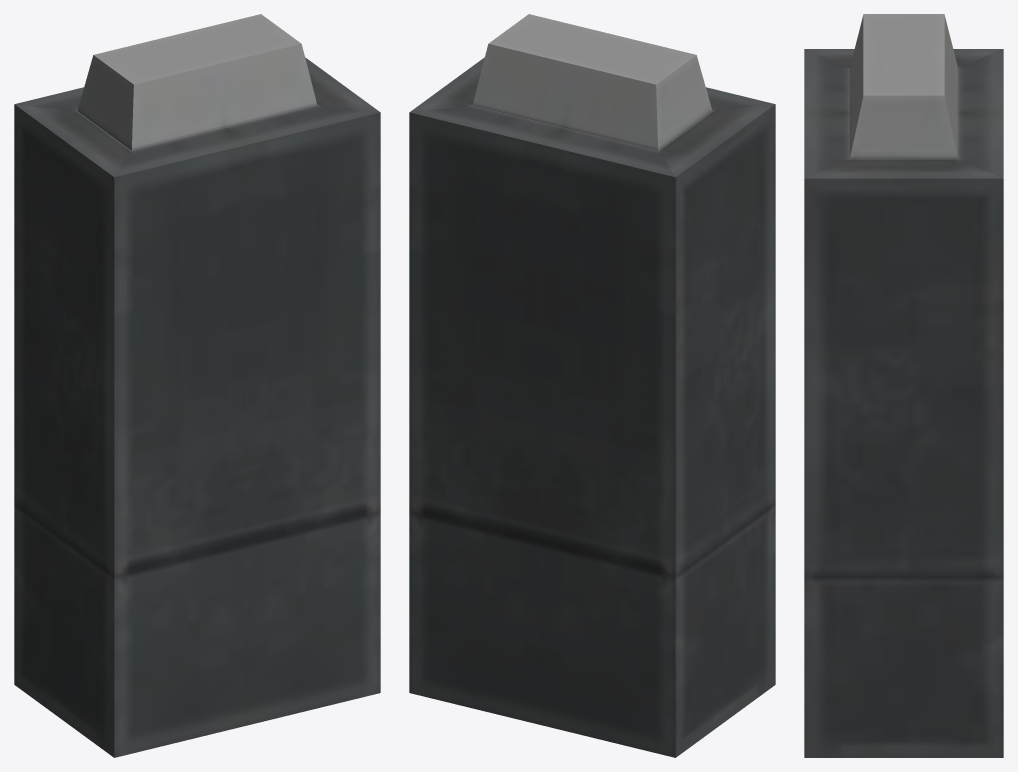
File: Part - Pillar 04-dP58rEF-.glb
The picture shows the model from 3 angles, left to right: view 1: azimuth 30°, elevation 25°; view 2: azimuth 150°, elevation 25°; view 3: azimuth 270°, elevation 25°; orthographic projection.
Visible parts, largest first — view 1: Pillar_04; view 2: Pillar_04; view 3: Pillar_04.
Boxes of the visible parts, bbox=[...] form: Pillar_04: bbox=[14, 14, 380, 757]; Pillar_04: bbox=[409, 14, 775, 757]; Pillar_04: bbox=[804, 14, 1003, 757].
Size of the model in its own units: 0.4039 by 0.9272 by 0.2626.
Materials: 1 (1 with a texture image).
